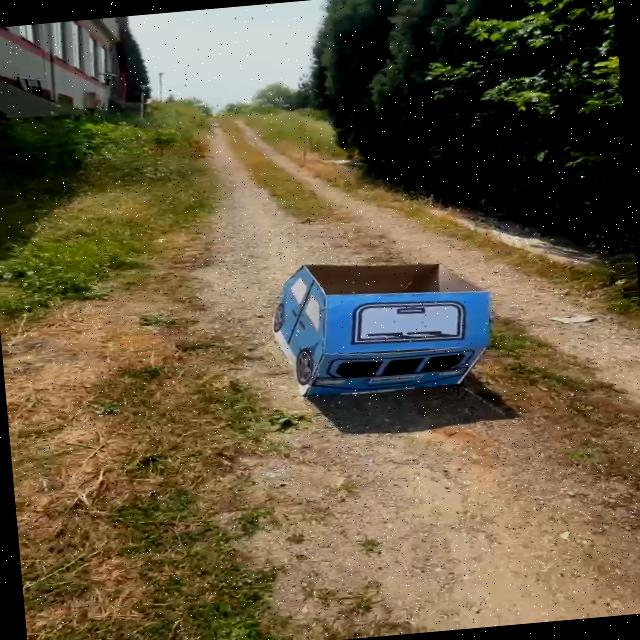blue_car: (236, 229, 513, 425)
